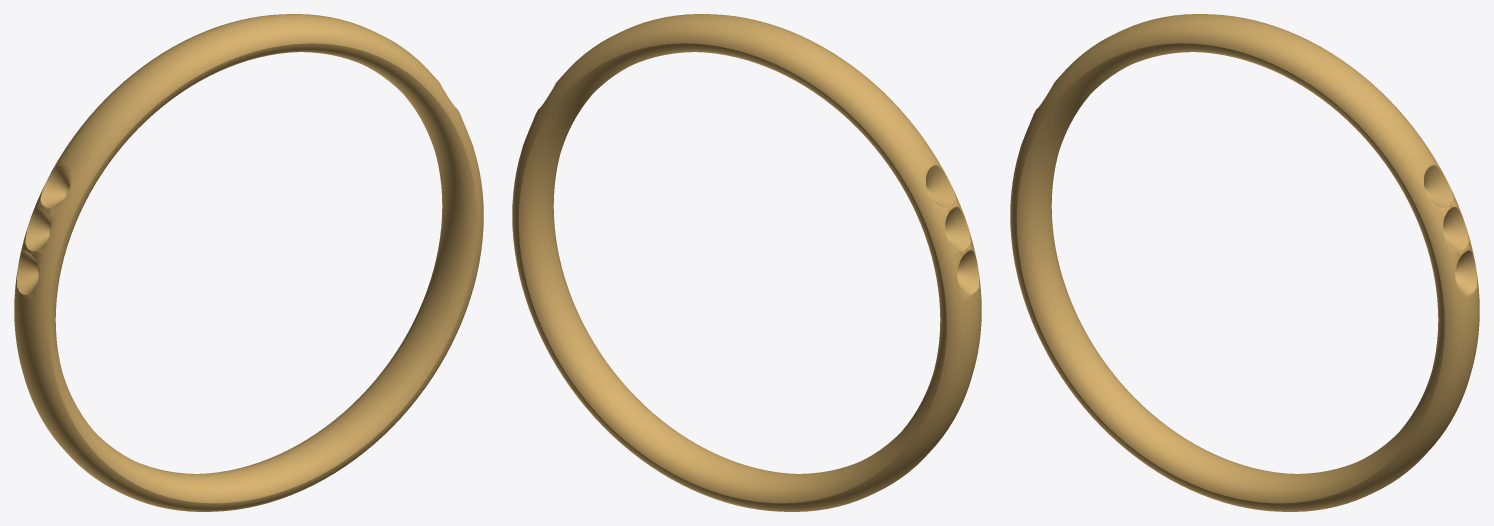
The model's file is rounded-bezel-accents-wide.glb.
The picture shows the model from 3 angles, left to right: view 1: azimuth 30°, elevation 25°; view 2: azimuth 150°, elevation 25°; view 3: azimuth 330°, elevation 25°; orthographic projection.
Visible parts, largest first — view 1: Band; view 2: Band; view 3: Band.
Boxes of the visible parts, box(x1,y1,x2,y2) form: Band: box(14, 14, 483, 511); Band: box(512, 14, 981, 511); Band: box(1010, 14, 1479, 511).
Size of the model in its own units: 19.6 by 19.6 by 2.1.
